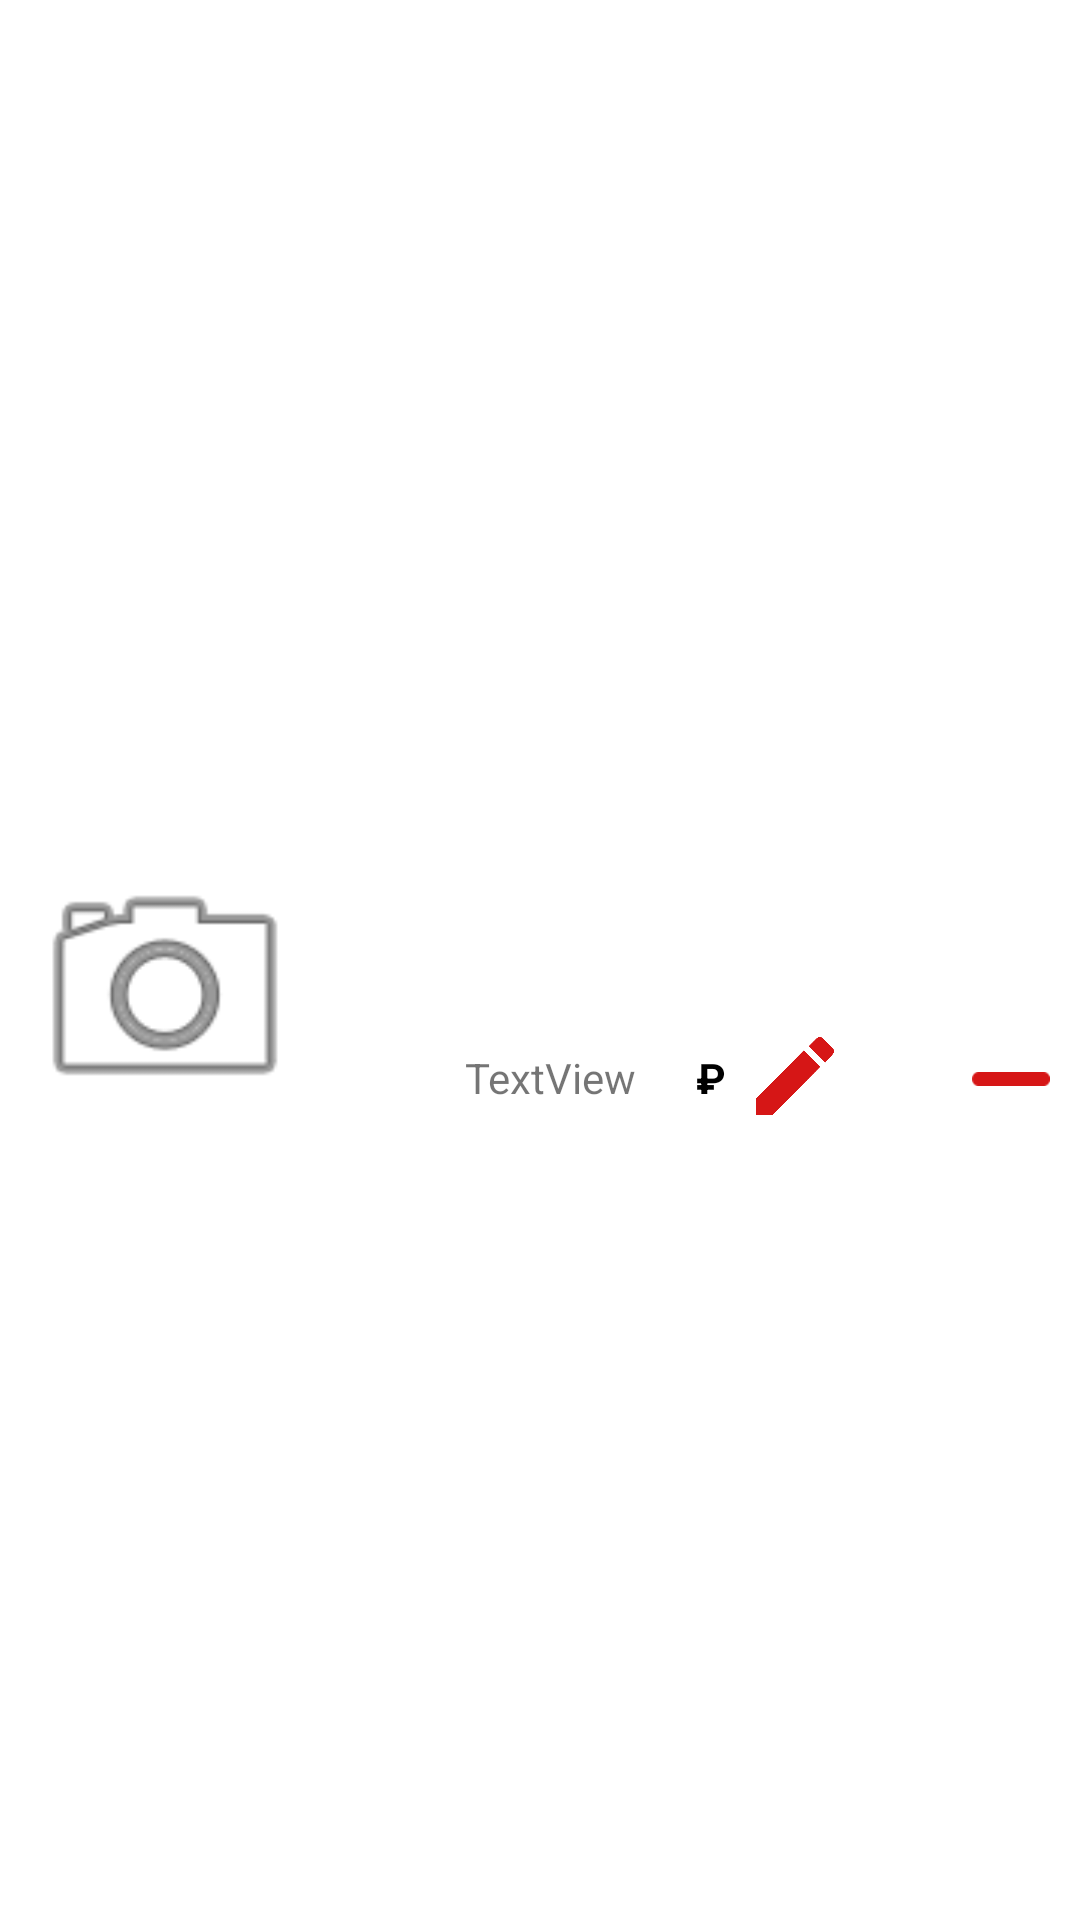

Named icons in this screenshot (1080*1920) and their bounding boxes, region(x1, y1, x2, y2):
camera: region(53, 896, 277, 1075)
edit crayon: region(756, 1037, 834, 1115)
